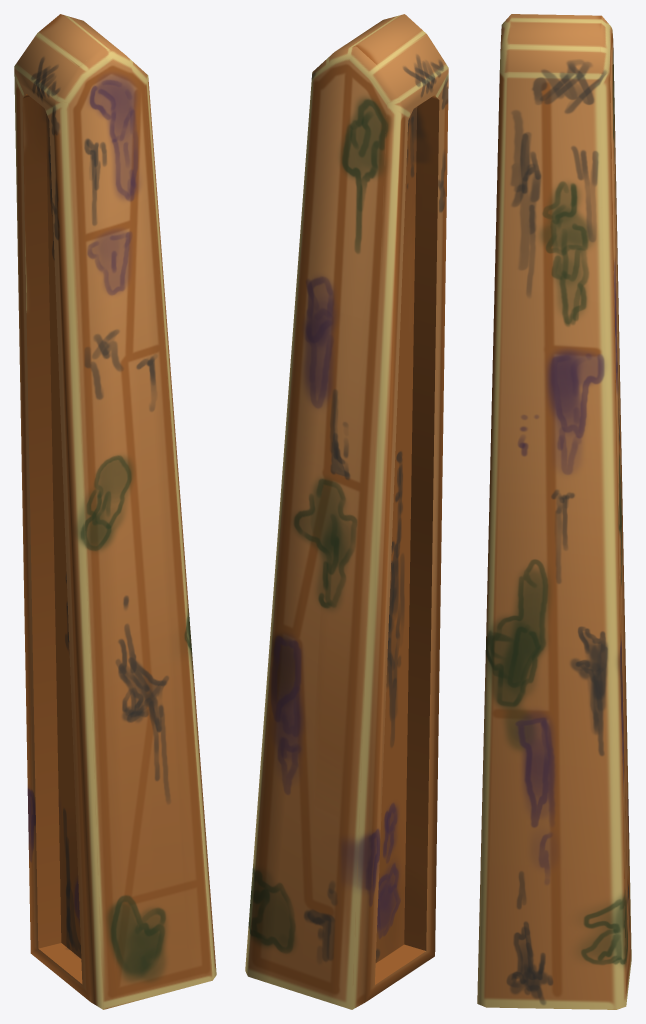
File: üst uç.fbx
The picture shows the model from 3 angles, left to right: view 1: azimuth 30°, elevation 25°; view 2: azimuth 150°, elevation 25°; view 3: azimuth 270°, elevation 25°; orthographic projection.
Visible parts, largest first — view 1: Cube.026; view 2: Cube.026; view 3: Cube.026.
Boxes of the visible parts, left/top/right/bottom form: Cube.026: left=14, top=14, right=216, bottom=1009; Cube.026: left=245, top=14, right=448, bottom=1009; Cube.026: left=477, top=14, right=631, bottom=1009.
Bounding box in the file's own units: 101 × 601 × 88.59.
Materials: 1 (1 with a texture image).
